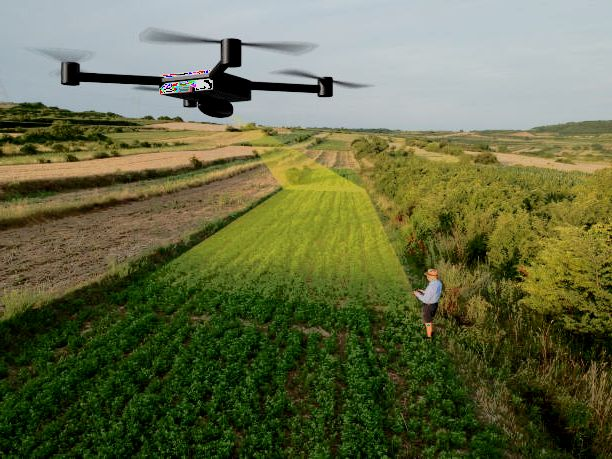Drone: (23, 22, 376, 122)
